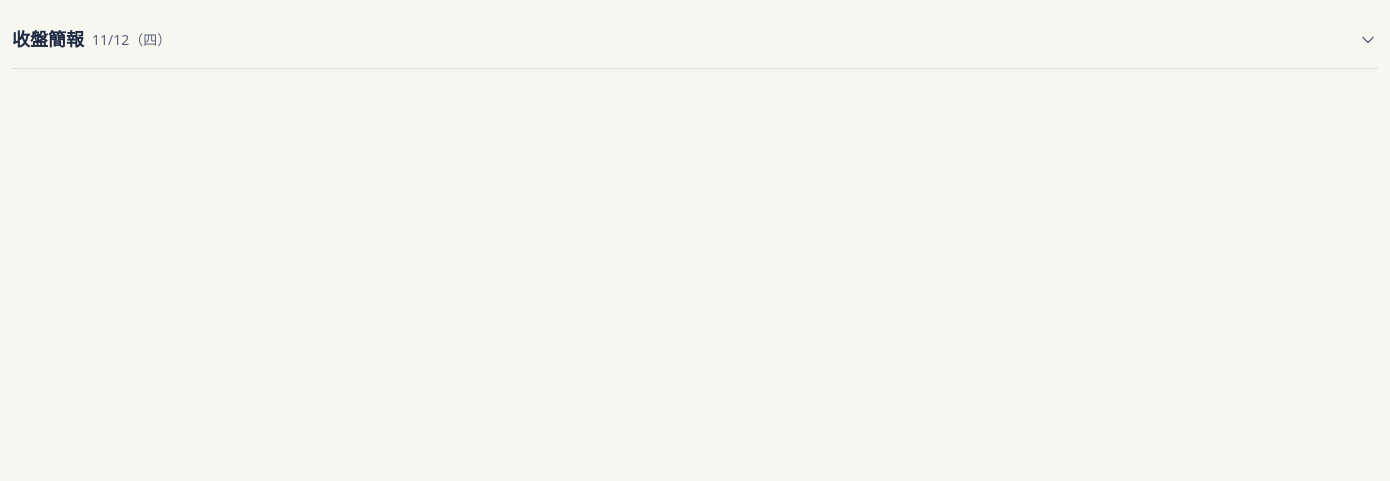
Scenario: 面板首頁的收盤簡報 › 看過的：收成一列、沒有圓點、不再記一次；按一下展開
Check: the text "NT$3,707,922" is not shown
Click the button "收盤簡報 11/12（四）": [48, 39] box [12, 12, 1378, 68]
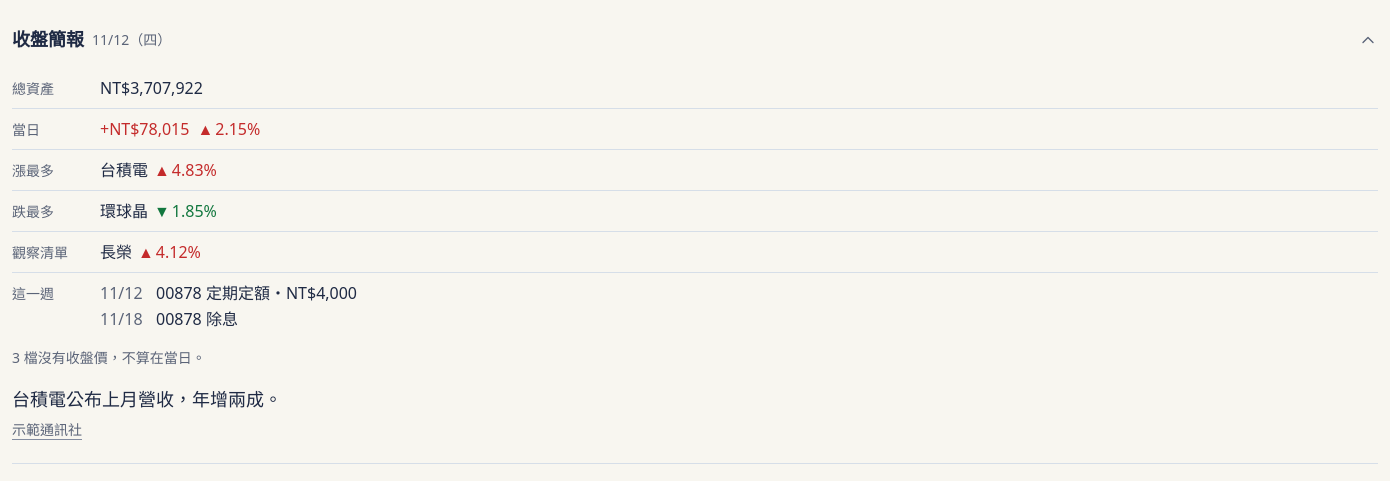
Check: the button "收盤簡報 11/12（四）" is expanded, box [12, 12, 1378, 68]
Check: the text "NT$3,707,922" is shown, box [100, 77, 203, 99]
